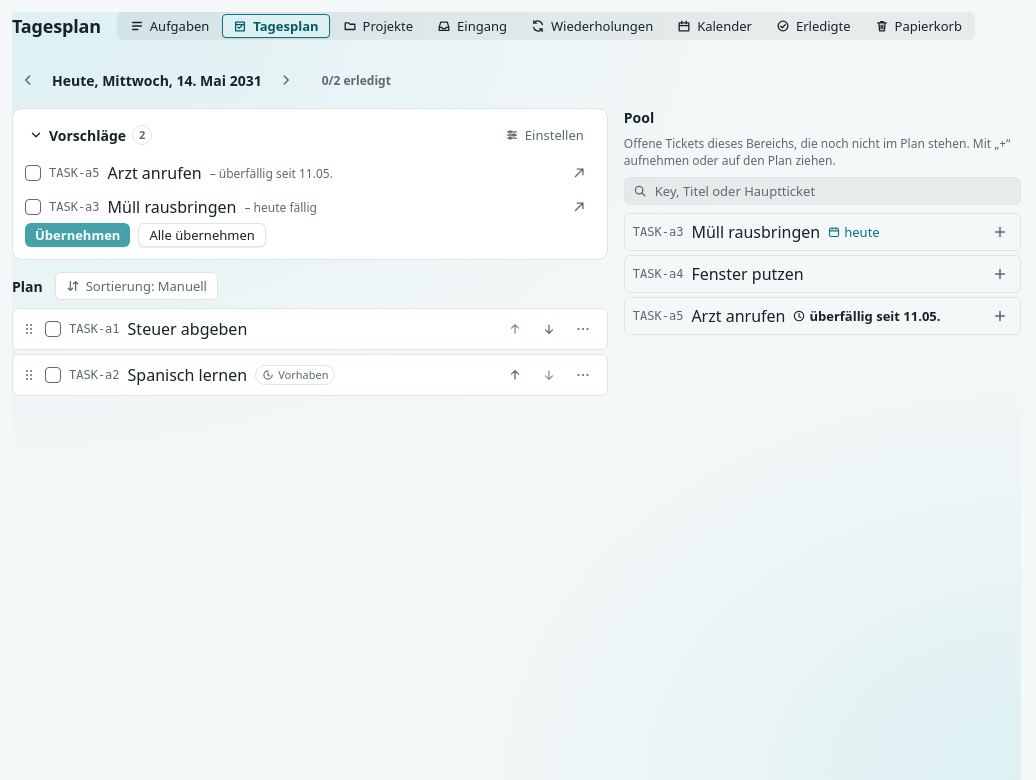
Scenario: suggestions › lists the suggestions with their reasons, adopts chosen ones and all
This screenshot has width=1036, height=780.
Expected: the text "– heute fällig" is shown, [244,198,317,216]
Expected: the text "– überfällig seit 11.05." is shown, [210,164,333,182]
Click the checkbox labelled "TASK-a3 Müll rausbringen – heute fällig": point(33, 207) [25,199,41,215]
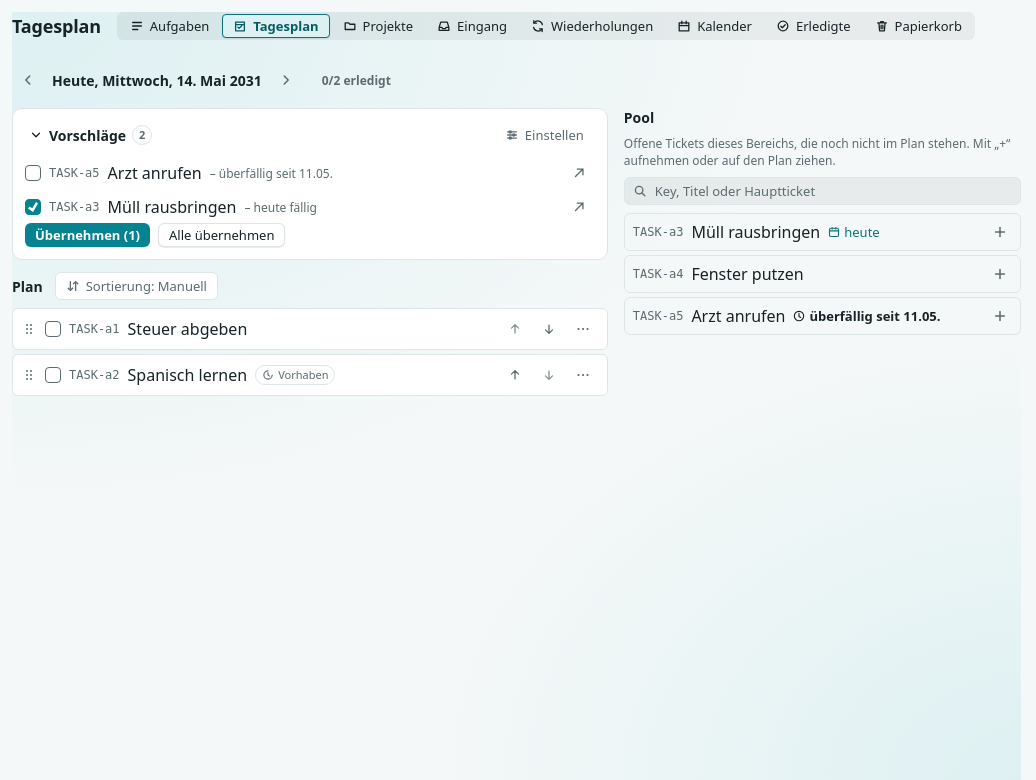
Click the button "Übernehmen (1)": point(88, 235) [25,223,150,247]
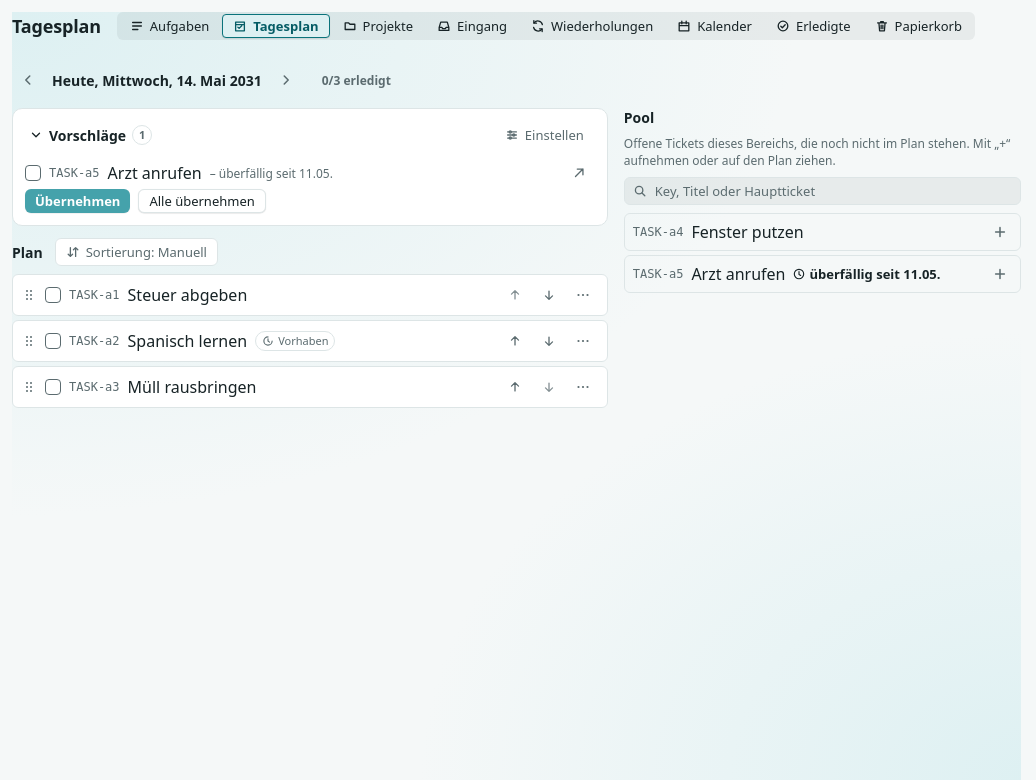
Expected: the text "TASK-a3" is shown, [69,380,120,394]
Click the button "Alle übernehmen": point(202, 201) [138,189,266,213]
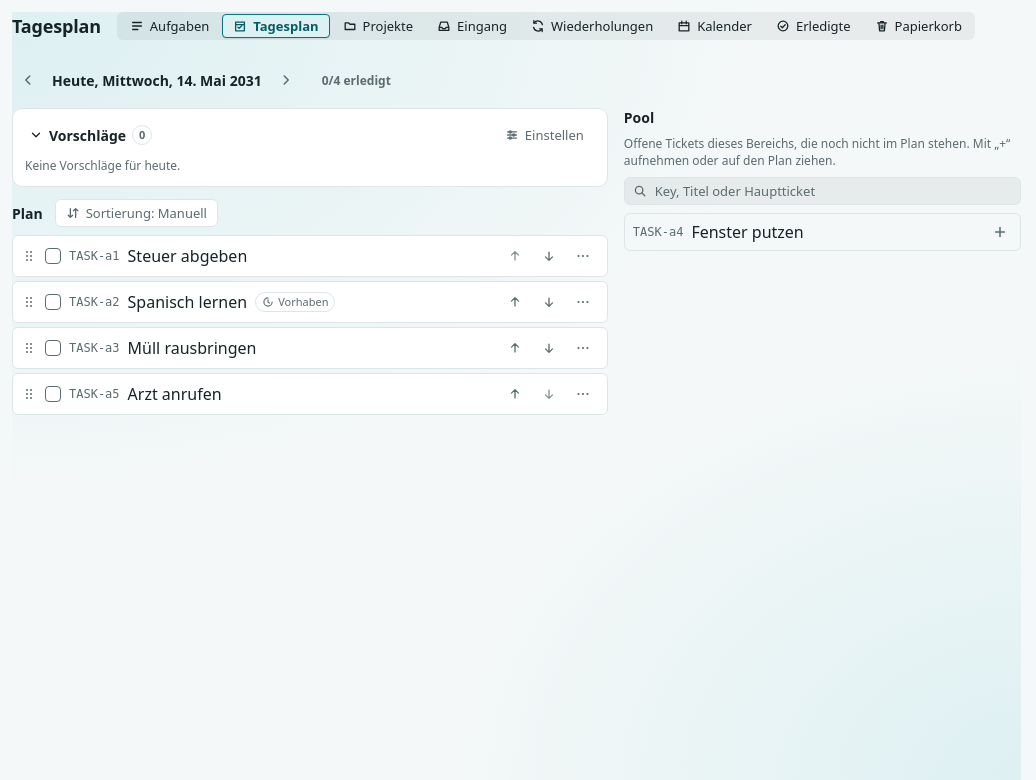
Now the text "Keine Vorschläge für heute." is shown, box [25,157,180,174]
